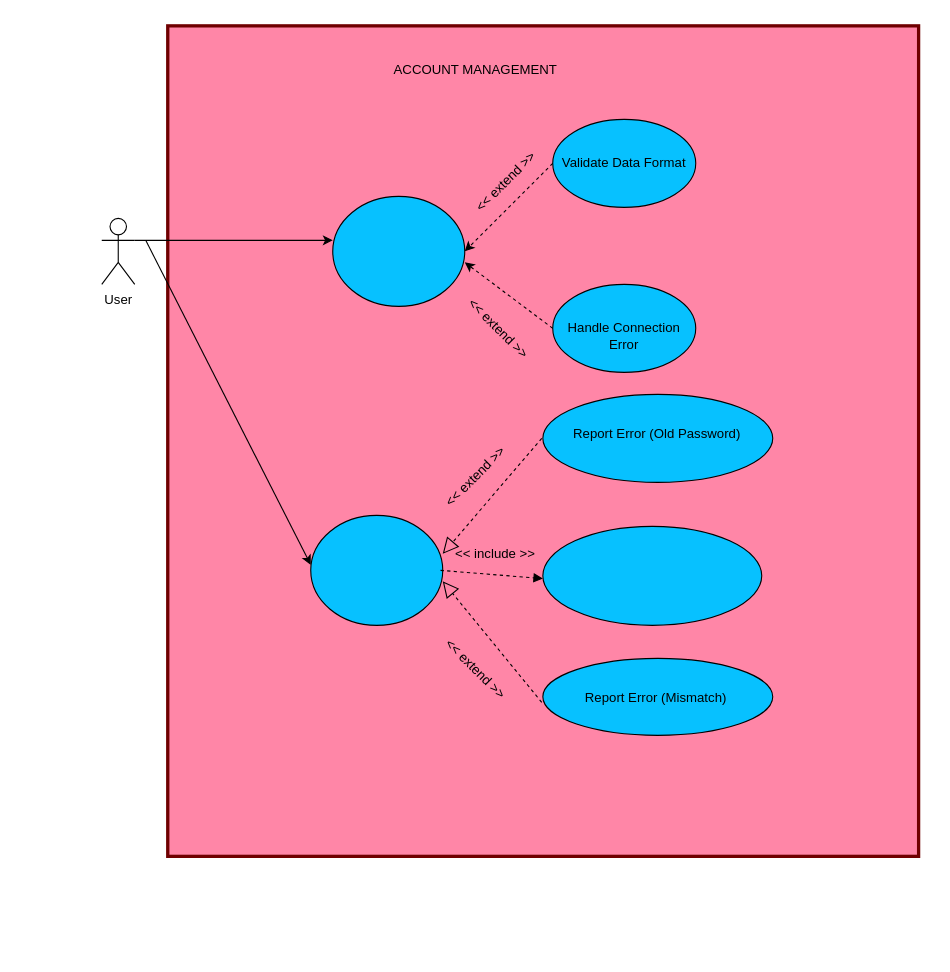
This 950x972 diagram has some shape labels left out. Each missing label, with the centre of its shape:
"Change Password" goes at (x=376, y=569).
"Update Profile" goes at (x=398, y=250).
"Validate Password Strength" goes at (x=652, y=575).
